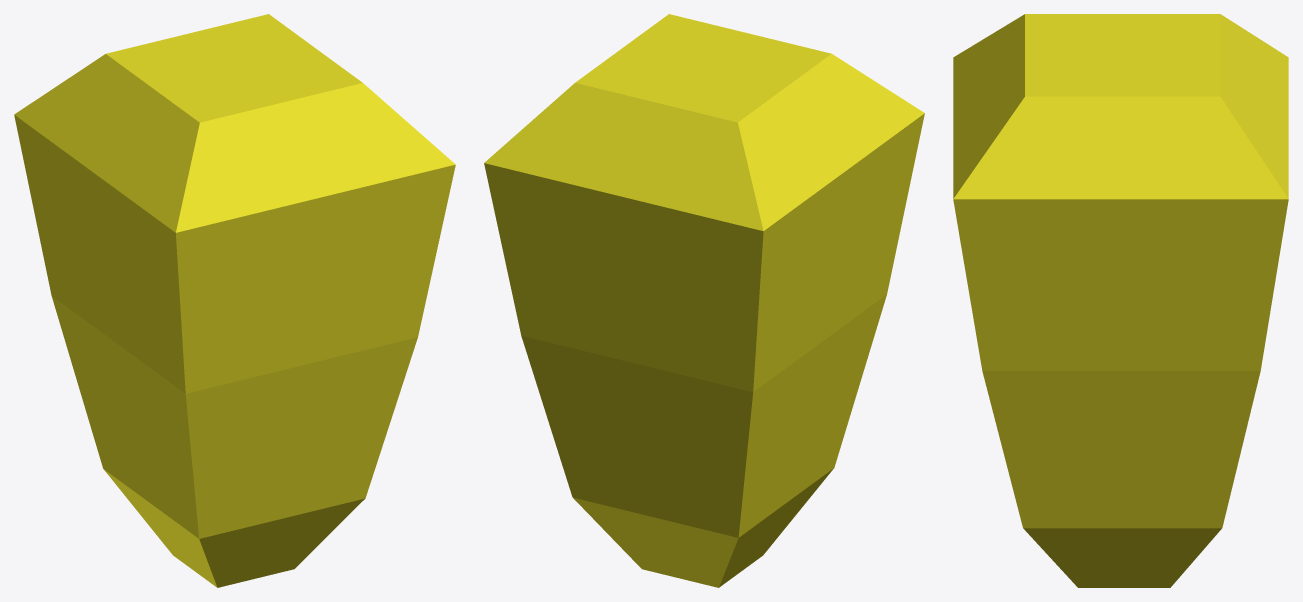
File: Seed.fbx
3 views of the same model, side by side, from view 1: azimuth 30°, elevation 25°; view 2: azimuth 150°, elevation 25°; view 3: azimuth 270°, elevation 25° (orthographic). The views are drawn at different scales.
Visible parts, largest first — view 1: Cube; view 2: Cube; view 3: Cube.
Part boxes in pixels (<box>): Cube: <box>14,14,455,587</box>; Cube: <box>484,14,924,587</box>; Cube: <box>953,14,1288,587</box>.
Size of the model in its own units: 1.18 by 2 by 1.18.
